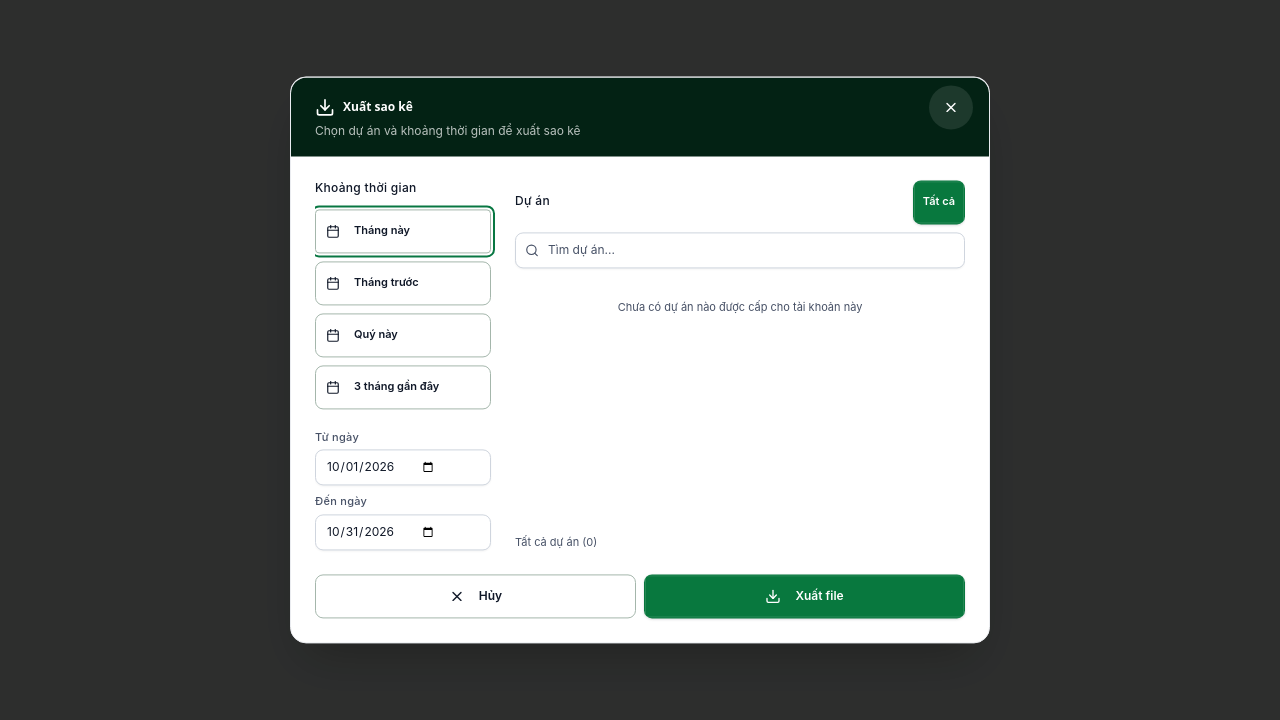
Test: ExportSaoKeDialog › distinguishes an account with no granted projects from a failed search
Expected: the text "Chưa có dự án nào được cấp cho tài khoản này" is shown, [618,300,862,314]
Type "TEV" into the field with placeholder "Tìm dự án..." at (740,250), box [515,232,965,268]
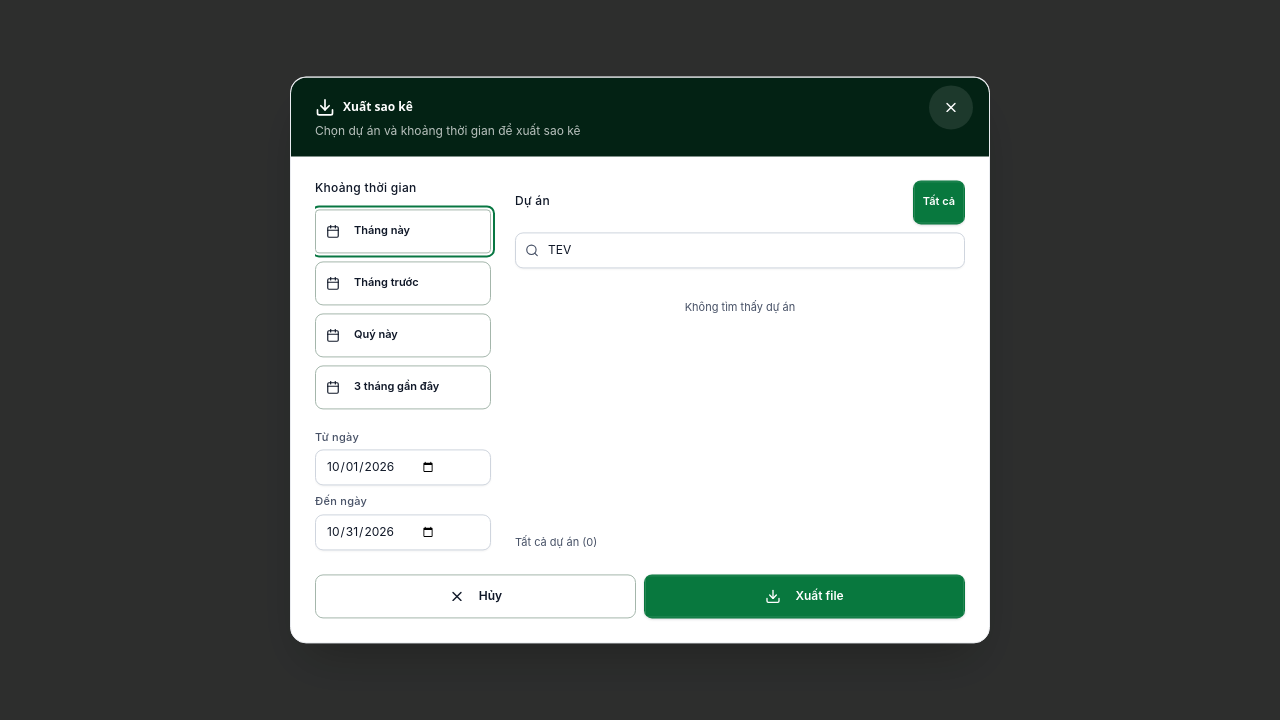
Expected: the text "Không tìm thấy dự án" is shown, [685,300,795,314]
